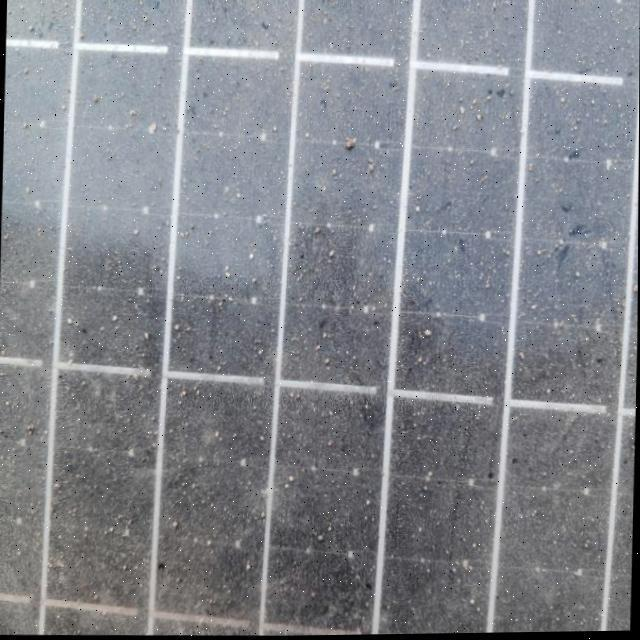Surface Contaminant: (1, 47, 640, 636)
